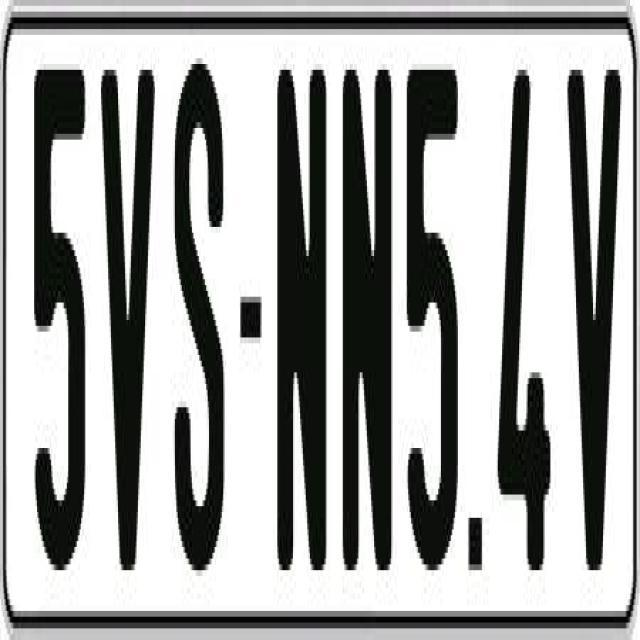4: (494, 52, 550, 558)
5: (402, 70, 456, 606), (33, 52, 86, 588)
N: (338, 58, 392, 559), (274, 70, 324, 600)
S: (173, 64, 230, 605)
V: (98, 52, 152, 588), (567, 70, 616, 582)
